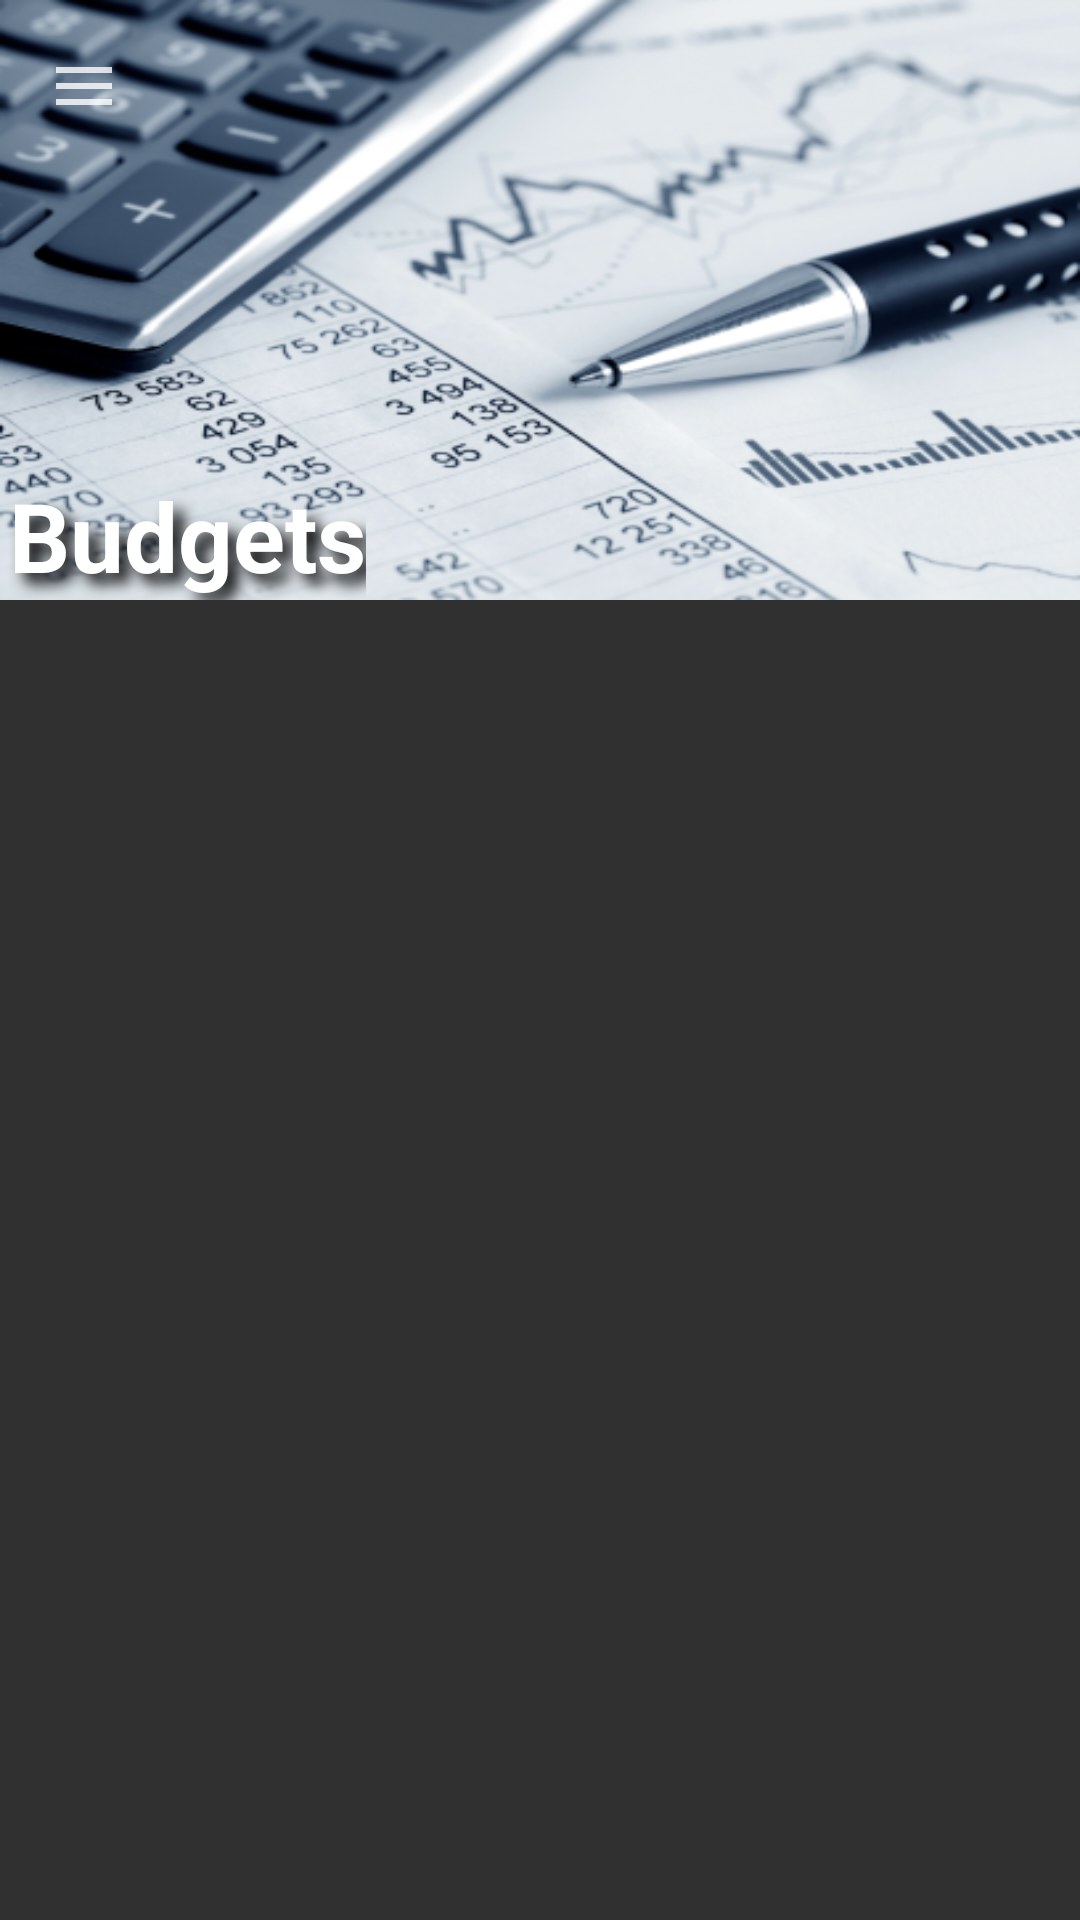

Screen size 1080w x 1920h. Icon name, then its center in pixels as point (x, y):
drawer: point (84, 87)
